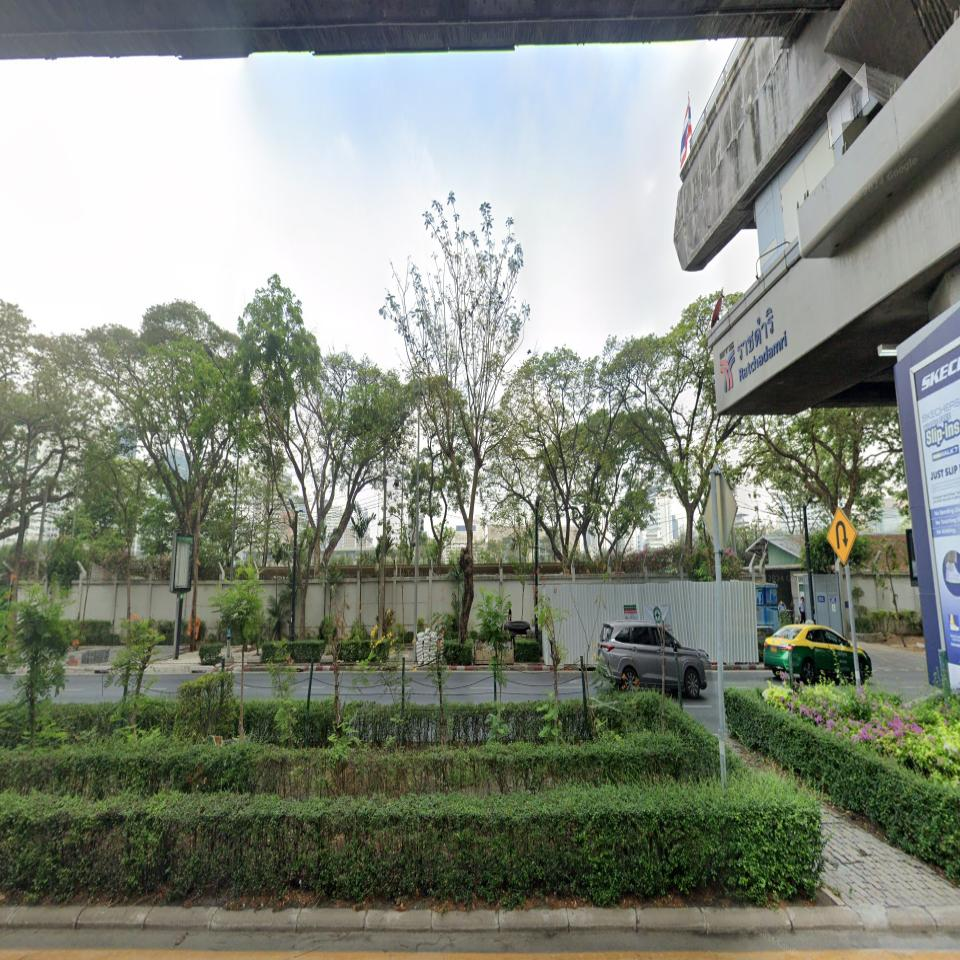signage: (719, 306, 788, 394), (737, 306, 788, 382)
